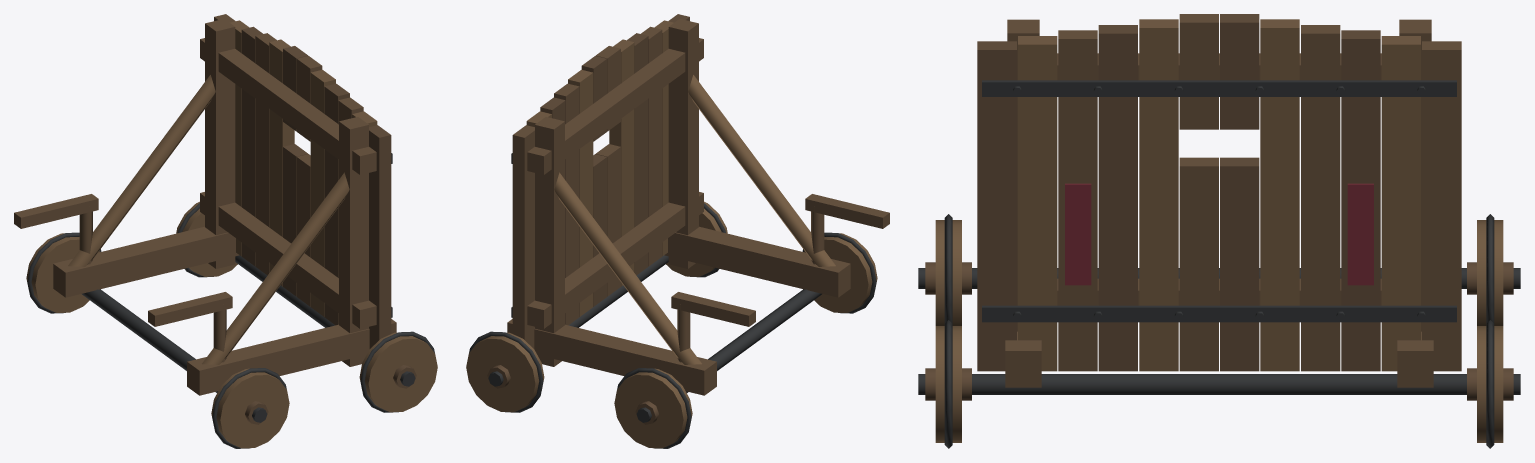
3 renders of one model, left to right at view 1: azimuth 30°, elevation 25°; view 2: azimuth 150°, elevation 25°; view 3: azimuth 270°, elevation 25°, orthographic. The views are drawn at different scales.
Visible parts, largest first — view 1: Mesh_ChassisRunner-0.97, Mesh_ChassisRunner0.97, Mesh_Upright-0.97, Mesh_Upright0.97, Mesh_RearCrossrail1.95, Mesh_ShieldPlank11, Mesh_RearCrossrail0.72, Mesh_WheelDisk_-0.66_1, Mesh_WheelDisk_0.58_1, Mesh_RakingBrace0.97, Mesh_RakingBrace-0.97, Mesh_ShieldPlank3 (+21 smaller); view 2: Mesh_ChassisRunner0.97, Mesh_ChassisRunner-0.97, Mesh_Upright0.97, Mesh_Upright-0.97, Mesh_RearCrossrail1.95, Mesh_ShieldPlank0, Mesh_RearCrossrail0.72, Mesh_WheelDisk_-0.66_-1, Mesh_WheelDisk_0.58_-1, Mesh_RakingBrace-0.97, Mesh_RakingBrace0.97, Mesh_ShieldPlank8 (+21 smaller); view 3: Mesh_ShieldPlank4, Mesh_ShieldPlank7, Mesh_ShieldPlank3, Mesh_ShieldPlank8, Mesh_ShieldPlank0, Mesh_ShieldPlank11, Mesh_ShieldPlank1, Mesh_ShieldPlank10, Mesh_Axle0.58, Mesh_ShieldPlank2, Mesh_ShieldPlank9, Mesh_IronStrap0.72 (+24 smaller).
Part boxes in pixels (x1,y1,x2,y2): Mesh_ChassisRunner-0.97: (53,226,239,297); Mesh_ChassisRunner0.97: (187,319,396,395); Mesh_Upright-0.97: (205,19,235,268); Mesh_Upright0.97: (339,117,368,366); Mesh_RearCrossrail1.95: (200,38,376,174); Mesh_ShieldPlank11: (369,125,391,348); Mesh_RearCrossrail0.72: (200,192,376,328); Mesh_WheelDisk_-0.66_1: (211,368,289,448); Mesh_WheelDisk_0.58_1: (359,332,437,412); Mesh_RakingBrace0.97: (202,172,349,364); Mesh_RakingBrace-0.97: (68,75,215,266); Mesh_ShieldPlank3: (255,33,276,275); Mesh_ChassisRunner0.97: (664,226,850,297); Mesh_ChassisRunner-0.97: (507,319,716,395); Mesh_Upright0.97: (668,19,698,268); Mesh_Upright-0.97: (535,117,564,366); Mesh_RearCrossrail1.95: (527,38,703,174); Mesh_ShieldPlank0: (512,125,534,348); Mesh_RearCrossrail0.72: (527,192,703,328); Mesh_WheelDisk_-0.66_-1: (614,368,692,448); Mesh_WheelDisk_0.58_-1: (466,332,544,412); Mesh_RakingBrace-0.97: (554,172,701,364); Mesh_RakingBrace0.97: (688,75,835,266); Mesh_ShieldPlank8: (627,33,648,275); Mesh_ShieldPlank4: (1260,19,1299,371); Mesh_ShieldPlank7: (1139,19,1178,371); Mesh_ShieldPlank3: (1301,25,1340,371); Mesh_ShieldPlank8: (1098,25,1137,371); Mesh_ShieldPlank0: (1422,41,1461,371); Mesh_ShieldPlank11: (977,41,1016,371); Mesh_ShieldPlank1: (1381,36,1420,371); Mesh_ShieldPlank10: (1018,36,1057,371); Mesh_Axle0.58: (918,374,1520,394); Mesh_ShieldPlank2: (1341,30,1380,371); Mesh_ShieldPlank9: (1058,30,1097,371); Mesh_IronStrap0.72: (982,305,1456,322).
Size of the model in its own units: 2.17 by 2.3 by 2.98.
